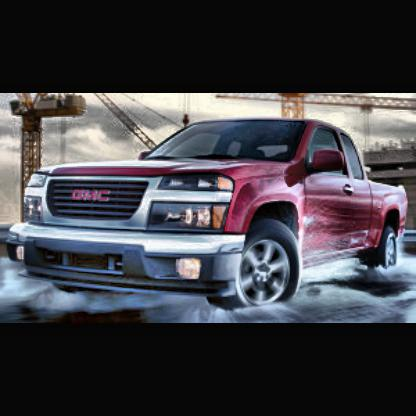GMC Canyon Extended Cab 2012: (5, 118, 409, 313)
